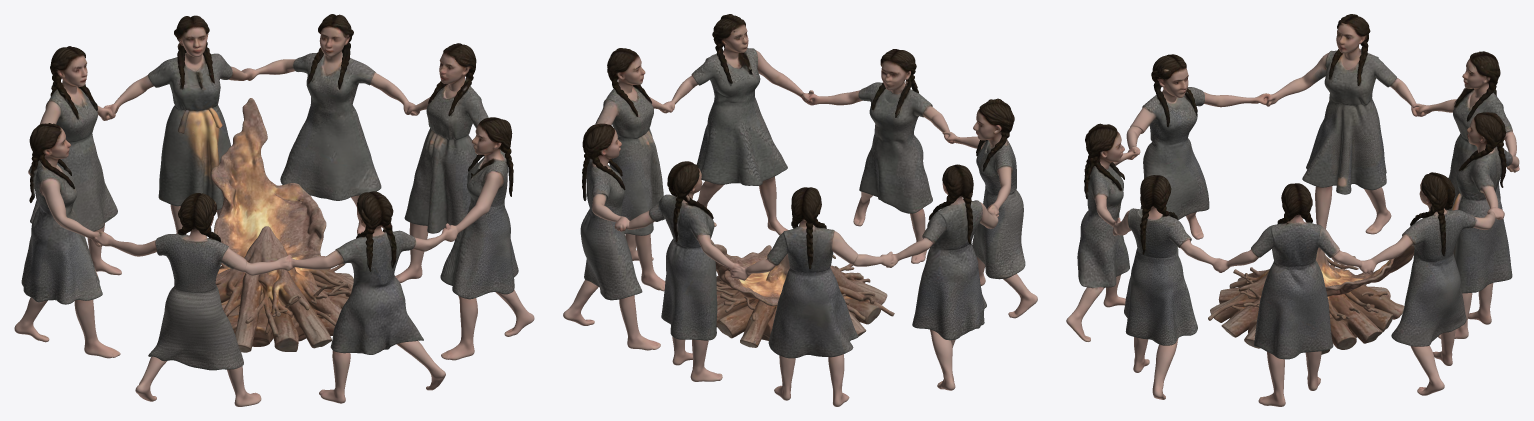
File: 40-el-patio-de-brujas-optimized.glb
3 renders of one model, left to right at view 1: azimuth 30°, elevation 25°; view 2: azimuth 150°, elevation 25°; view 3: azimuth 270°, elevation 25°, orthographic. The views are drawn at different scales.
Visible parts, largest first — view 1: tripo_node_9e713060-eeb7-4254-8c62-5271739d81bb; view 2: tripo_node_9e713060-eeb7-4254-8c62-5271739d81bb; view 3: tripo_node_9e713060-eeb7-4254-8c62-5271739d81bb.
Boxes of the visible parts, x1=… form: tripo_node_9e713060-eeb7-4254-8c62-5271739d81bb: x1=14, y1=14, x2=534, y2=406; tripo_node_9e713060-eeb7-4254-8c62-5271739d81bb: x1=563, y1=14, x2=1037, y2=406; tripo_node_9e713060-eeb7-4254-8c62-5271739d81bb: x1=1066, y1=14, x2=1519, y2=406.
Bounding box in the file's own units: 1 × 0.5257 × 0.9725.
1 material, 1 textured.
